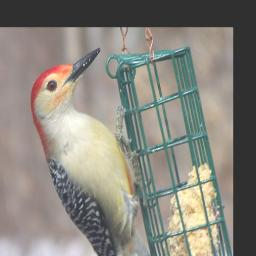Woodpecker: (30, 47, 152, 256)
